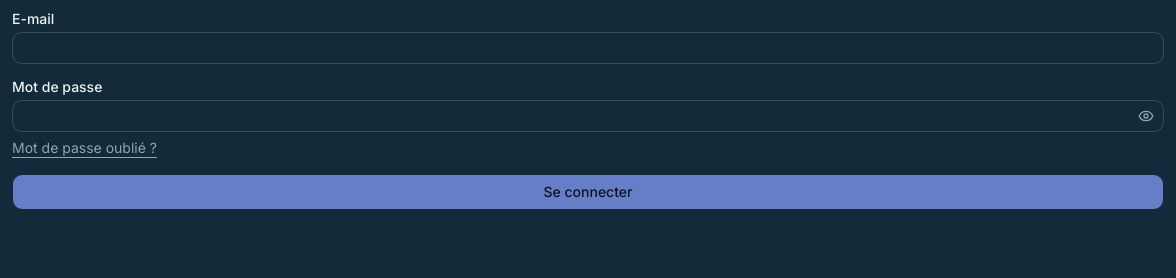
Test: LoginForm › affiche un message d'erreur generique relie au formulaire en cas d'echec
Type "test@example.com" into the field labelled "E-mail" at (588, 48), box [12,32,1164,64]
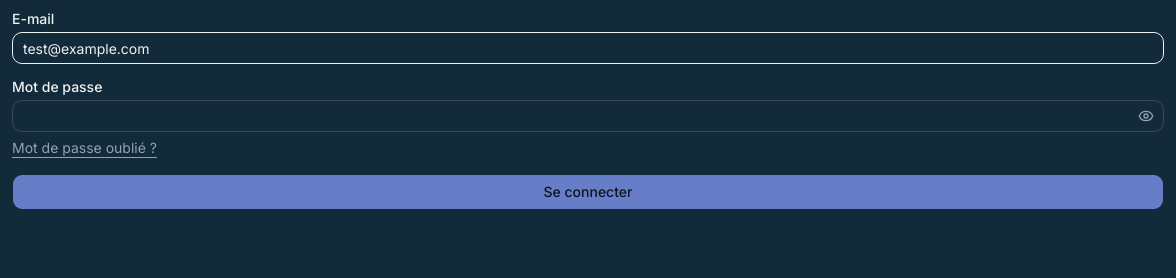
Type "wrong-password" into the password field labelled "Mot de passe" at (588, 116), box [12,100,1164,132]
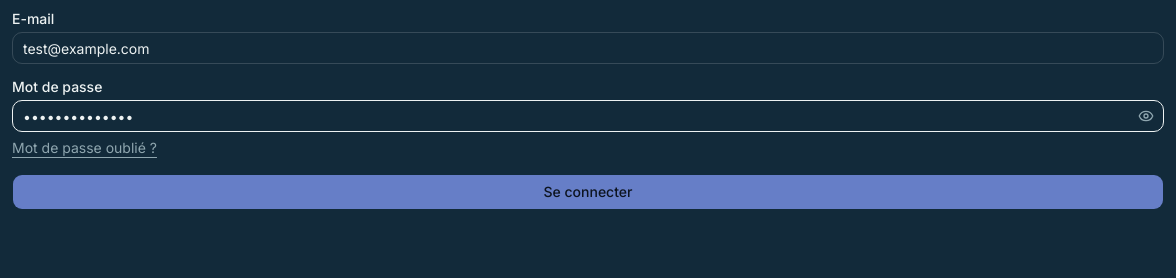
Click the button "Se connecter" at (588, 192), box [12,174,1164,210]
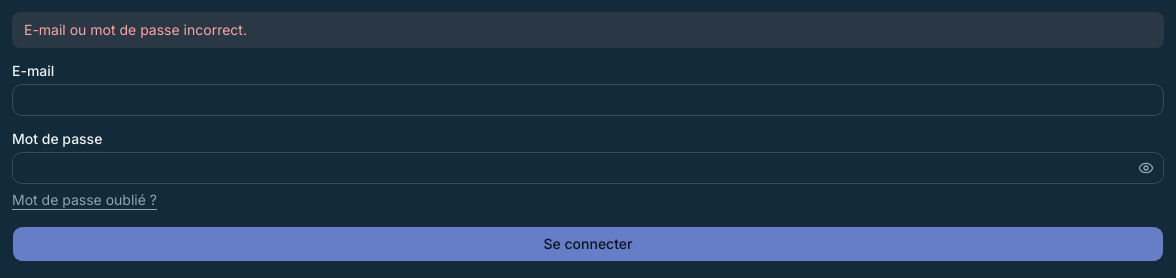
Result: the message reads "E-mail ou mot de passe incorrect." at [24,21,247,38]
